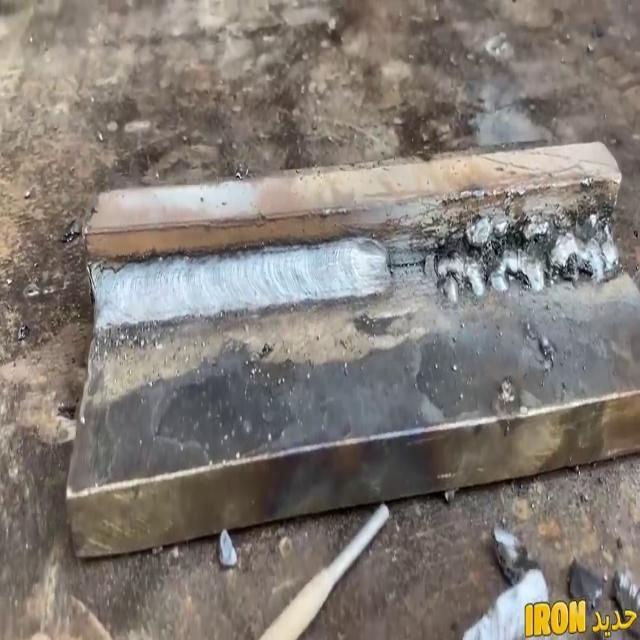Bad Welding: (426, 195, 624, 310)
Good Welding: (88, 234, 393, 335)
